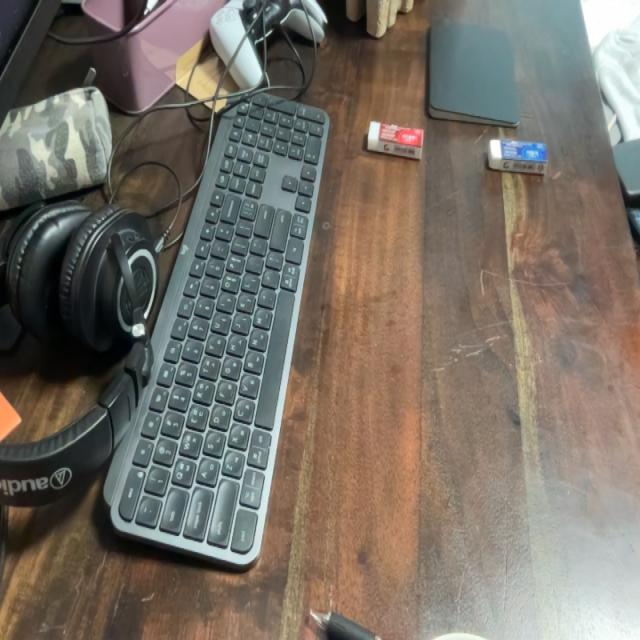blue: (483, 132, 551, 181)
red: (363, 116, 428, 168)
